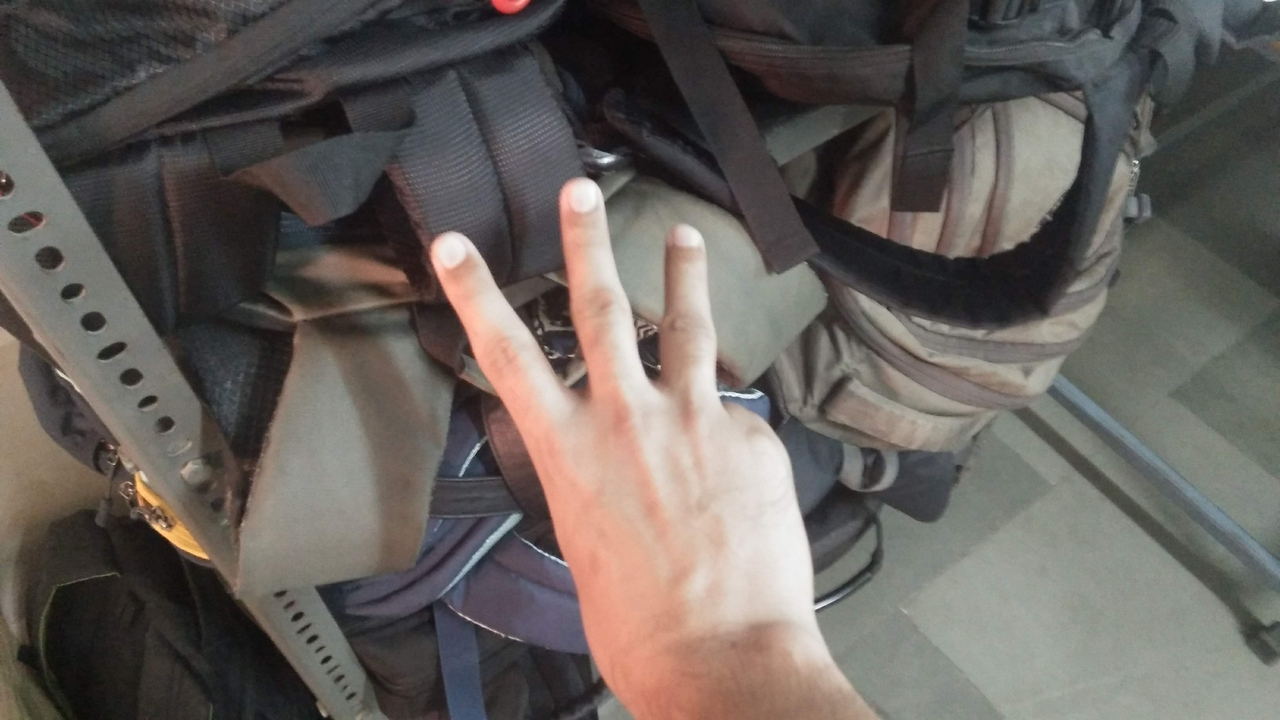fingertip: (420, 226, 486, 290), (550, 168, 612, 232), (654, 212, 714, 268)
